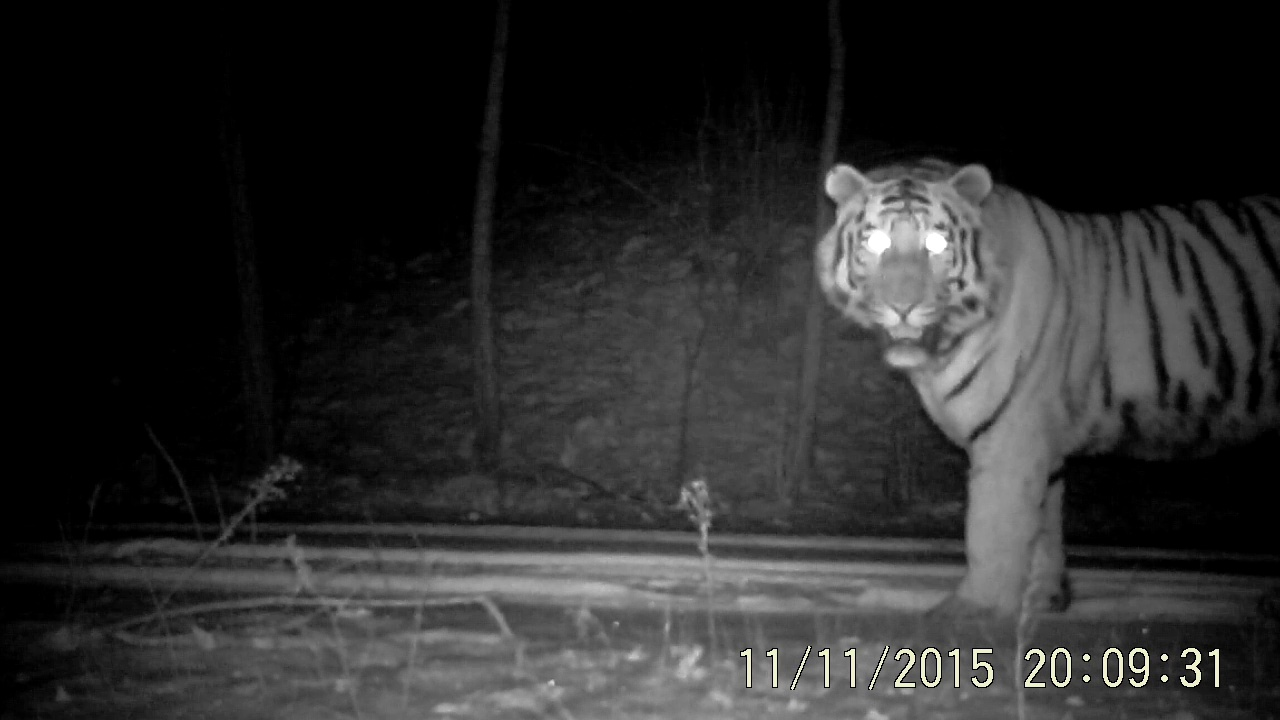Tiger: (778, 44, 1265, 617)
